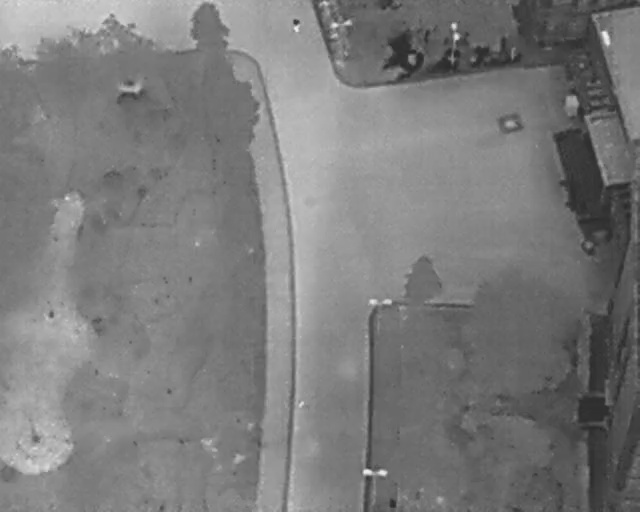Person: (292, 17, 302, 34)
